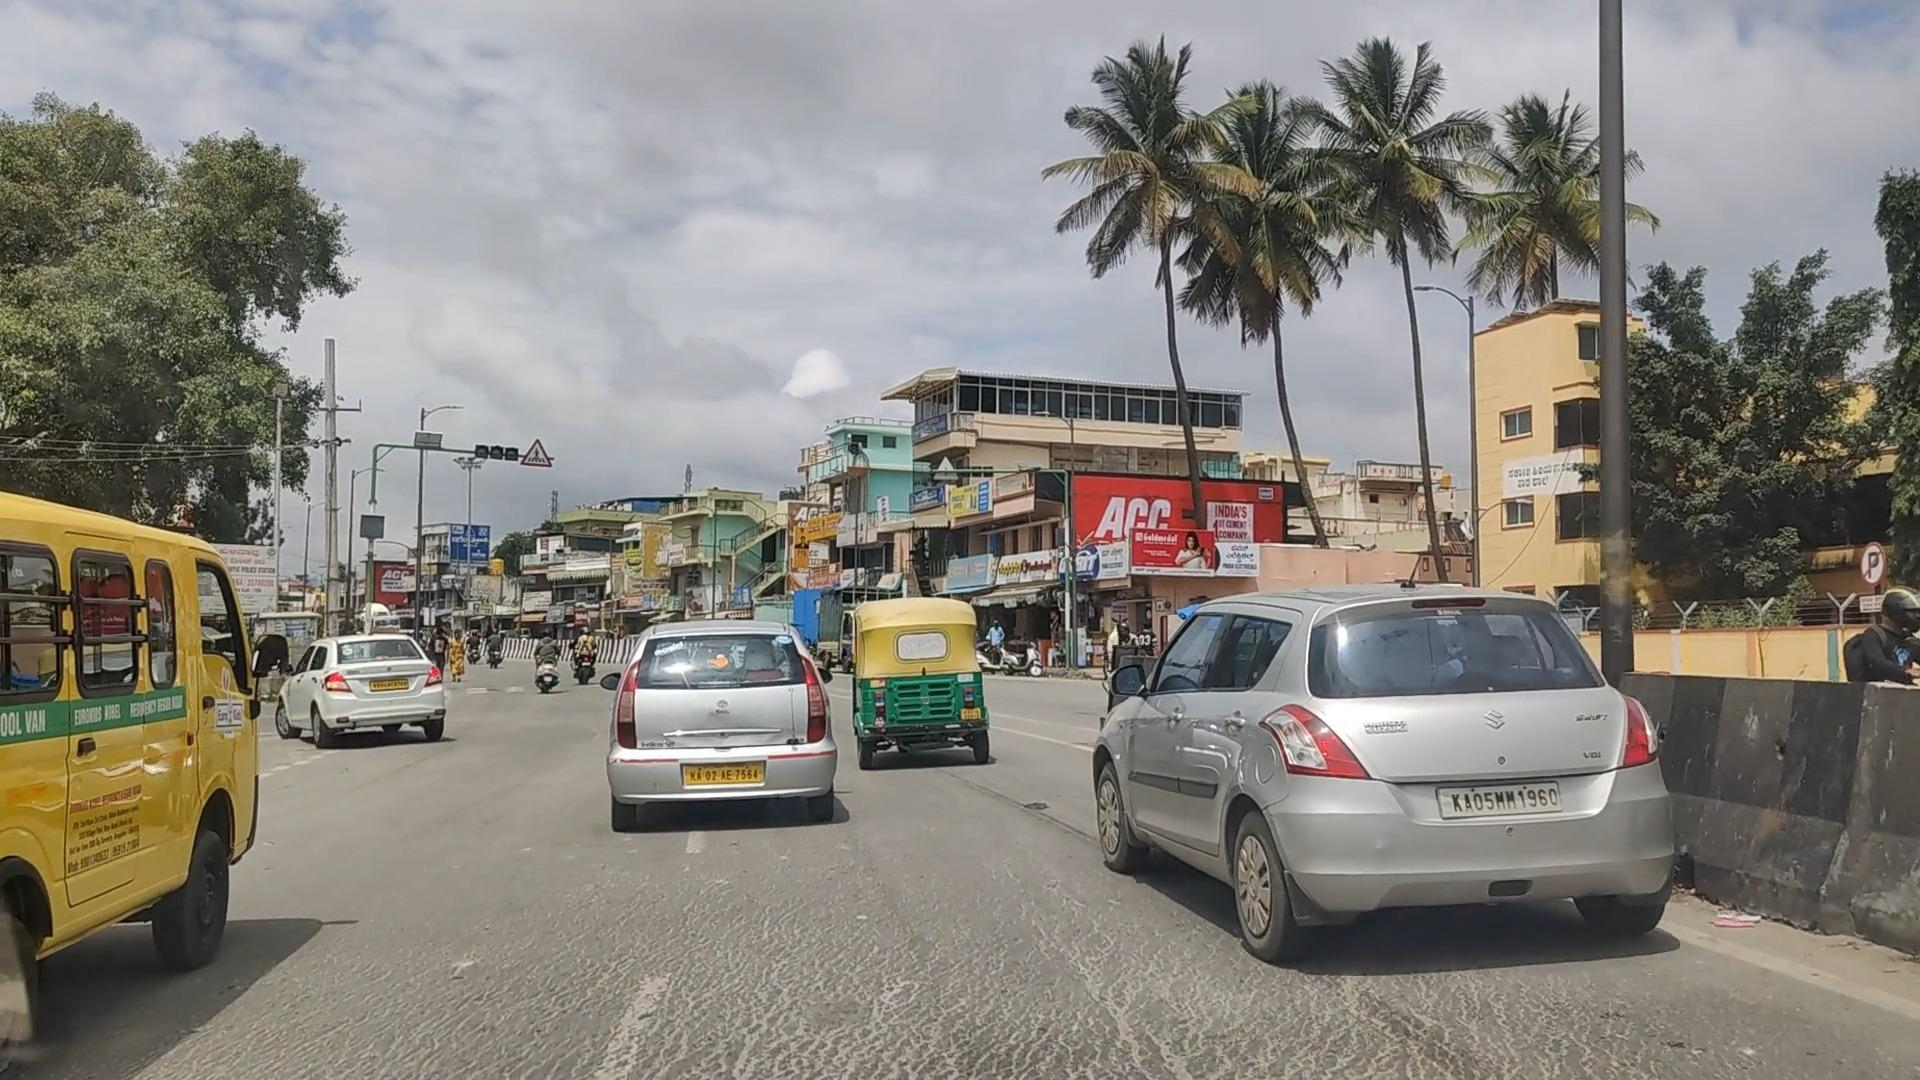LMV: (1077, 542, 1745, 1011), (0, 402, 249, 1080), (582, 605, 862, 857), (847, 585, 1015, 803), (284, 611, 454, 766)
